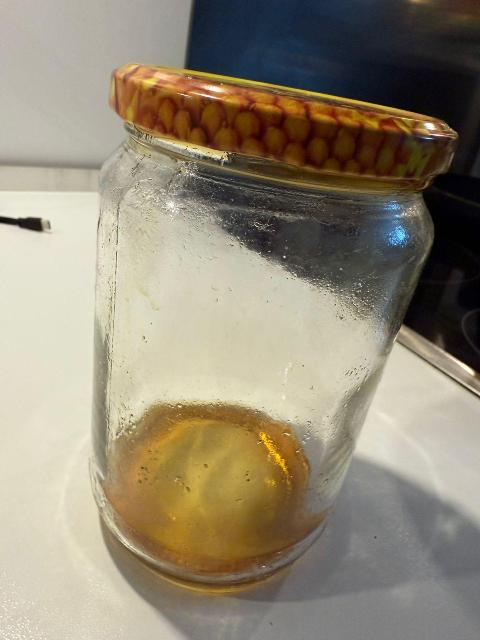Cam: (79, 127, 466, 599)
Metal: (68, 58, 476, 189)
